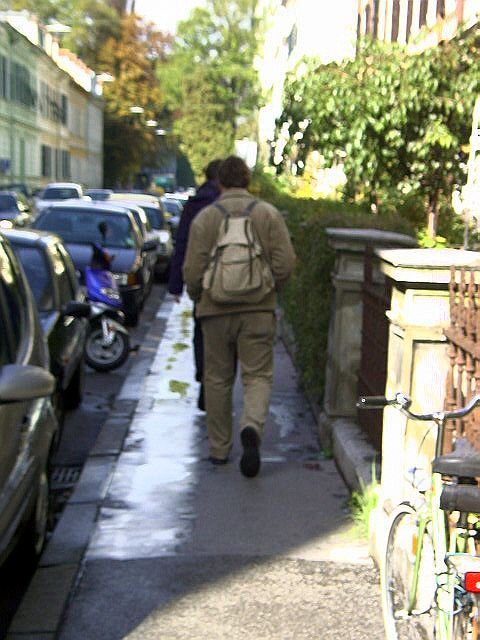person: (184, 154, 300, 477)
